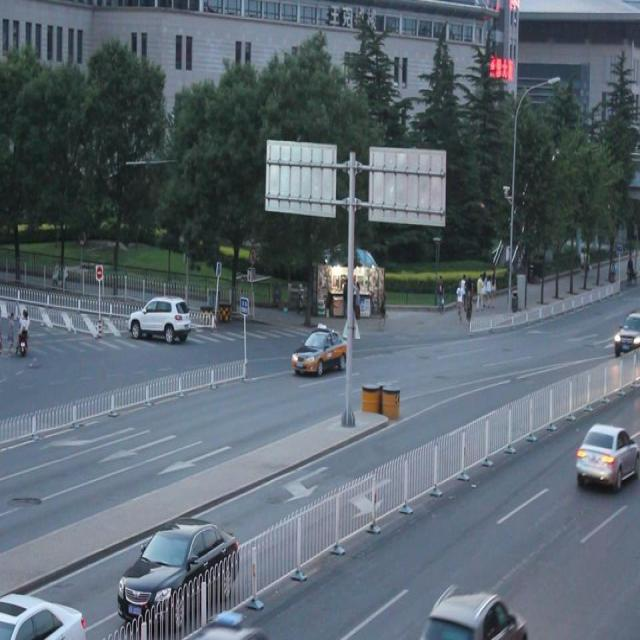car: (116, 523, 238, 622), (422, 580, 524, 640), (0, 586, 87, 640), (572, 419, 640, 486), (128, 297, 192, 343), (292, 324, 346, 378), (610, 310, 640, 354)
